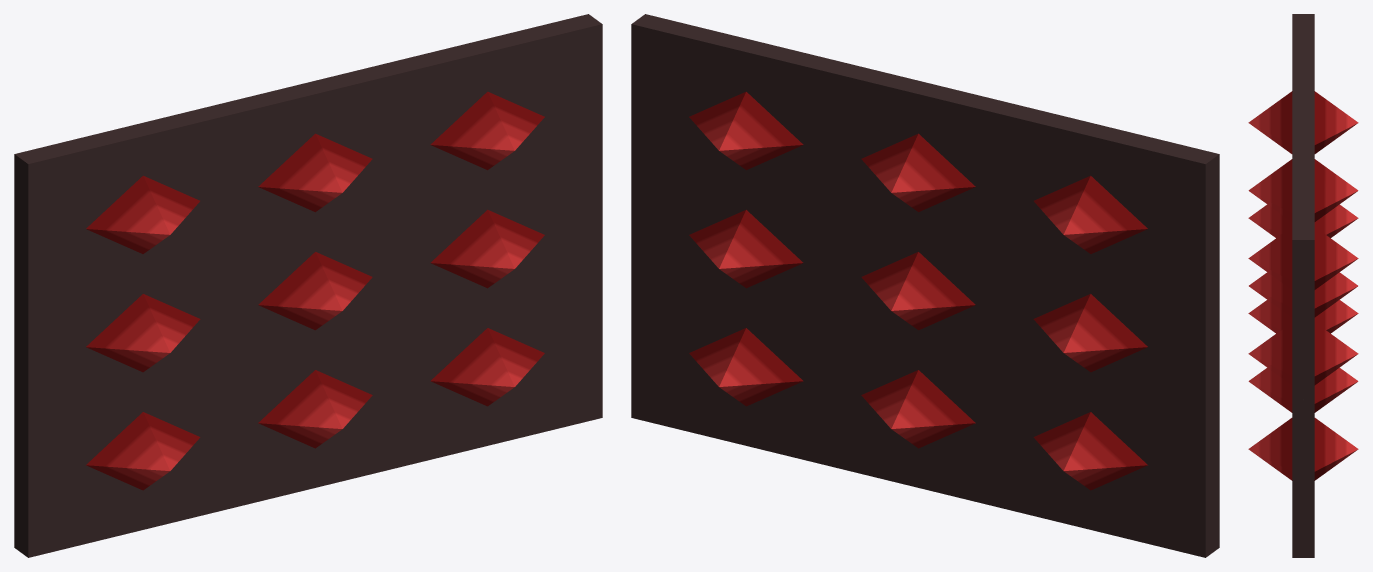
The model's file is pinchos.obj.
3 renders of one model, left to right at view 1: azimuth 30°, elevation 25°; view 2: azimuth 150°, elevation 25°; view 3: azimuth 270°, elevation 25°, orthographic. The views are drawn at different scales.
Visible parts, largest first — view 1: Cube.002; view 2: Cube.002; view 3: Cube.002.
Part boxes in pixels (x1,y1,x2,y2): Cube.002: (14,14,602,557); Cube.002: (631,14,1219,557); Cube.002: (1248,14,1358,557).
Size of the model in its own units: 11.97 by 7.85 by 2.47.
